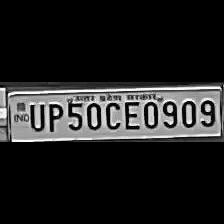0: (140, 96, 160, 128), (84, 98, 102, 130), (178, 97, 196, 127)
5: (63, 97, 83, 130)
9: (158, 96, 178, 128), (196, 96, 216, 128)
C: (103, 98, 121, 130)
E: (121, 98, 139, 130)
P: (44, 100, 64, 132)
U: (26, 100, 44, 132)
